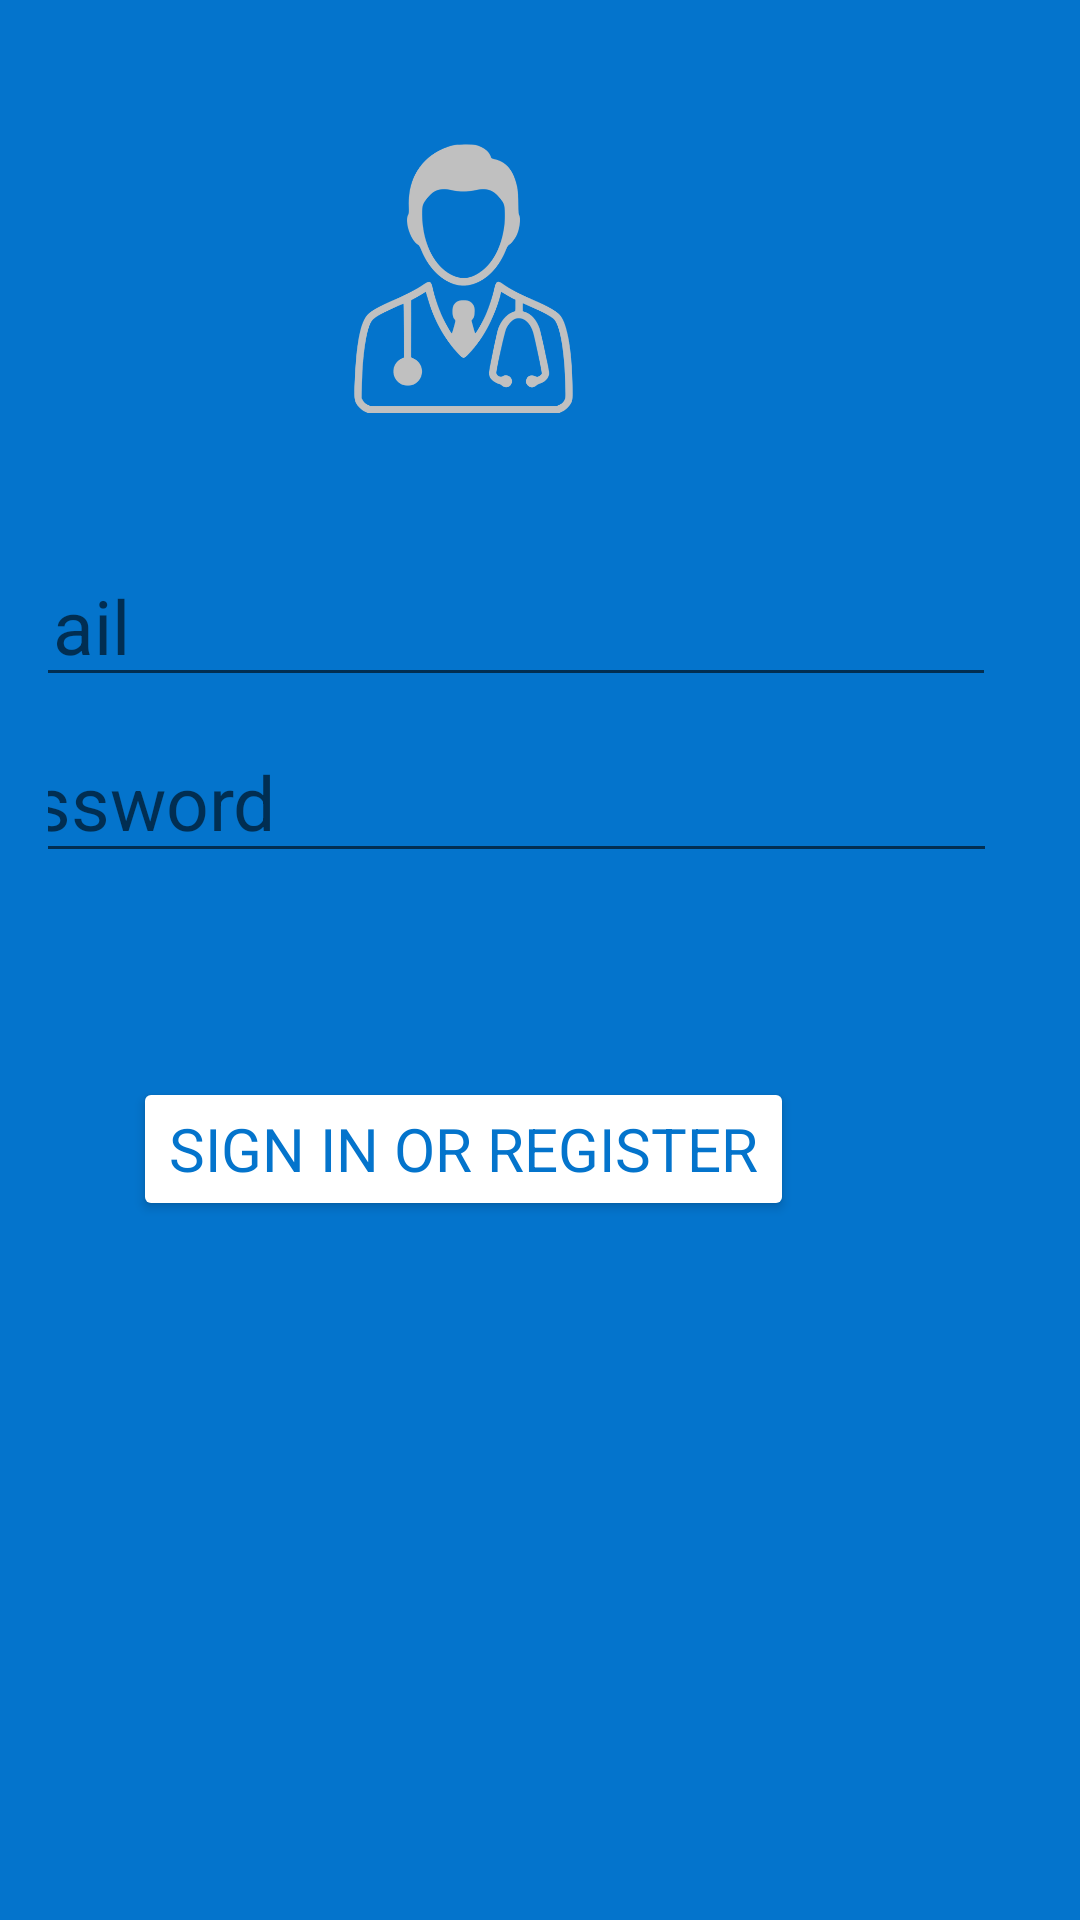

Screen size 1080 x 1920. Icon name, then its box in pixels as box(x1, y1, x2, y2):
docicon: box(354, 144, 573, 413)
